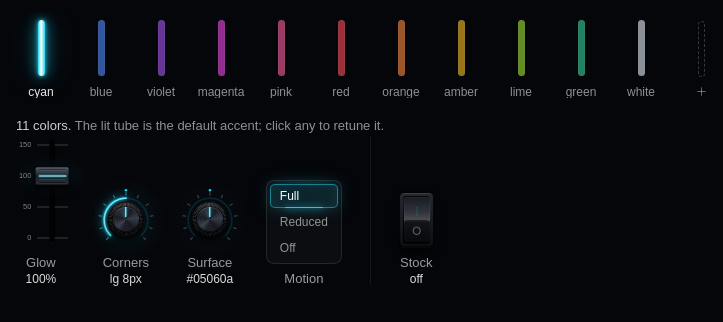
Test: desk › drives glow and corners from the keyboard and lands in the query string
Press ArrowDown in the slider named "Glow intensity", box 35,166 -> 70,186
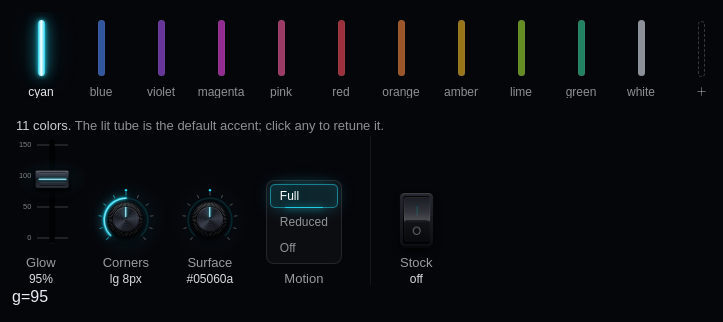
Press ArrowDown in the slider named "Glow intensity", box 35,170 -> 70,189
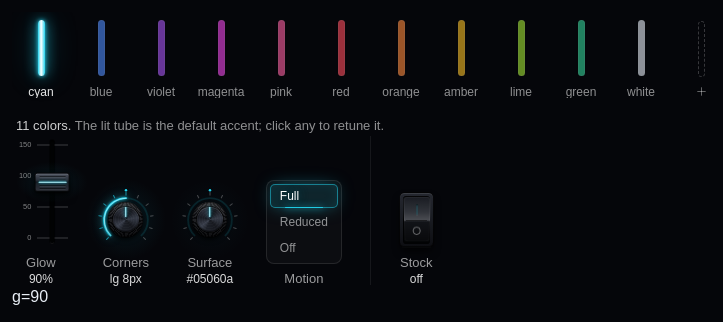
Press ArrowRight in the slider named "Corner radius", box 98,192 -> 154,248
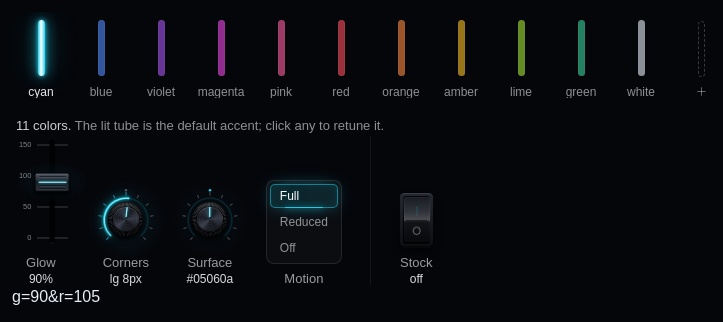
Check: the text with test id "qs" reads "g=90&r=105", box 12,288 -> 100,304
Click the radio button labelled "Off" at (304, 248), box 270,236 -> 338,260
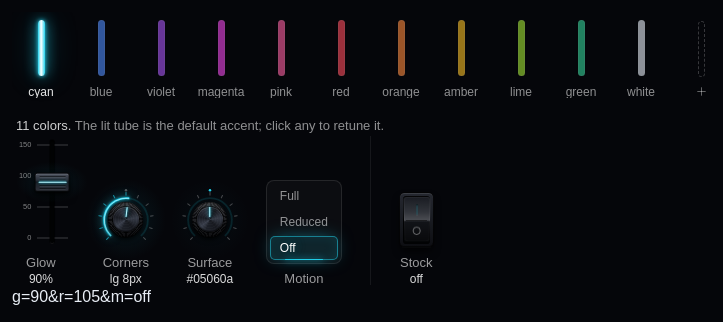
Check: the text with test id "qs" reads "g=90&r=105&m=off", box 12,288 -> 151,304
